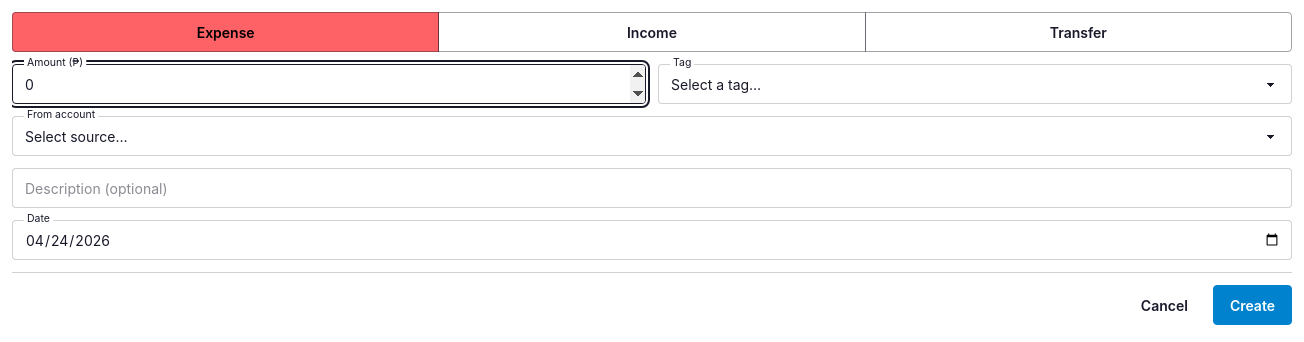
Scenario: TransactionForm type switching › switching to transfer reveals To + Fee
Click the button "Transfer" at (1078, 32), box left=865, top=12, right=1292, bottom=52
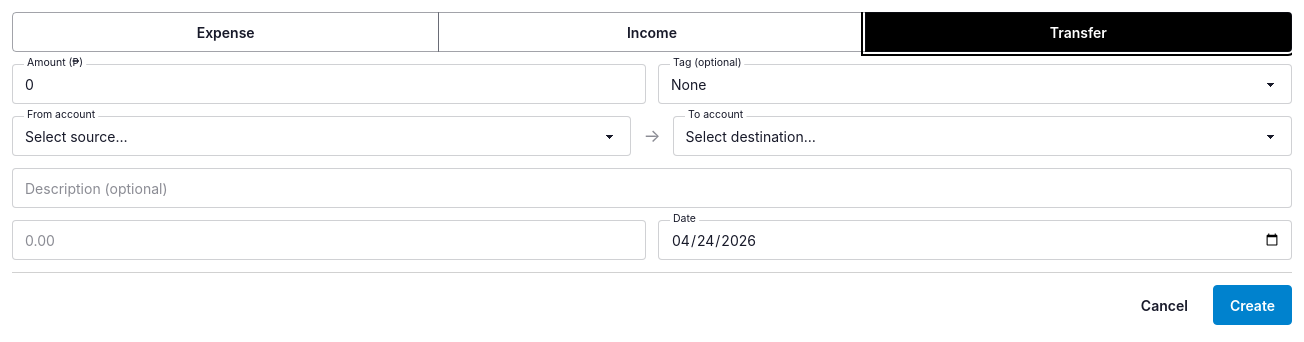
Expected: the text "From account" is shown, left=24, top=109, right=98, bottom=120
Expected: the text "To account" is shown, left=685, top=109, right=746, bottom=120
